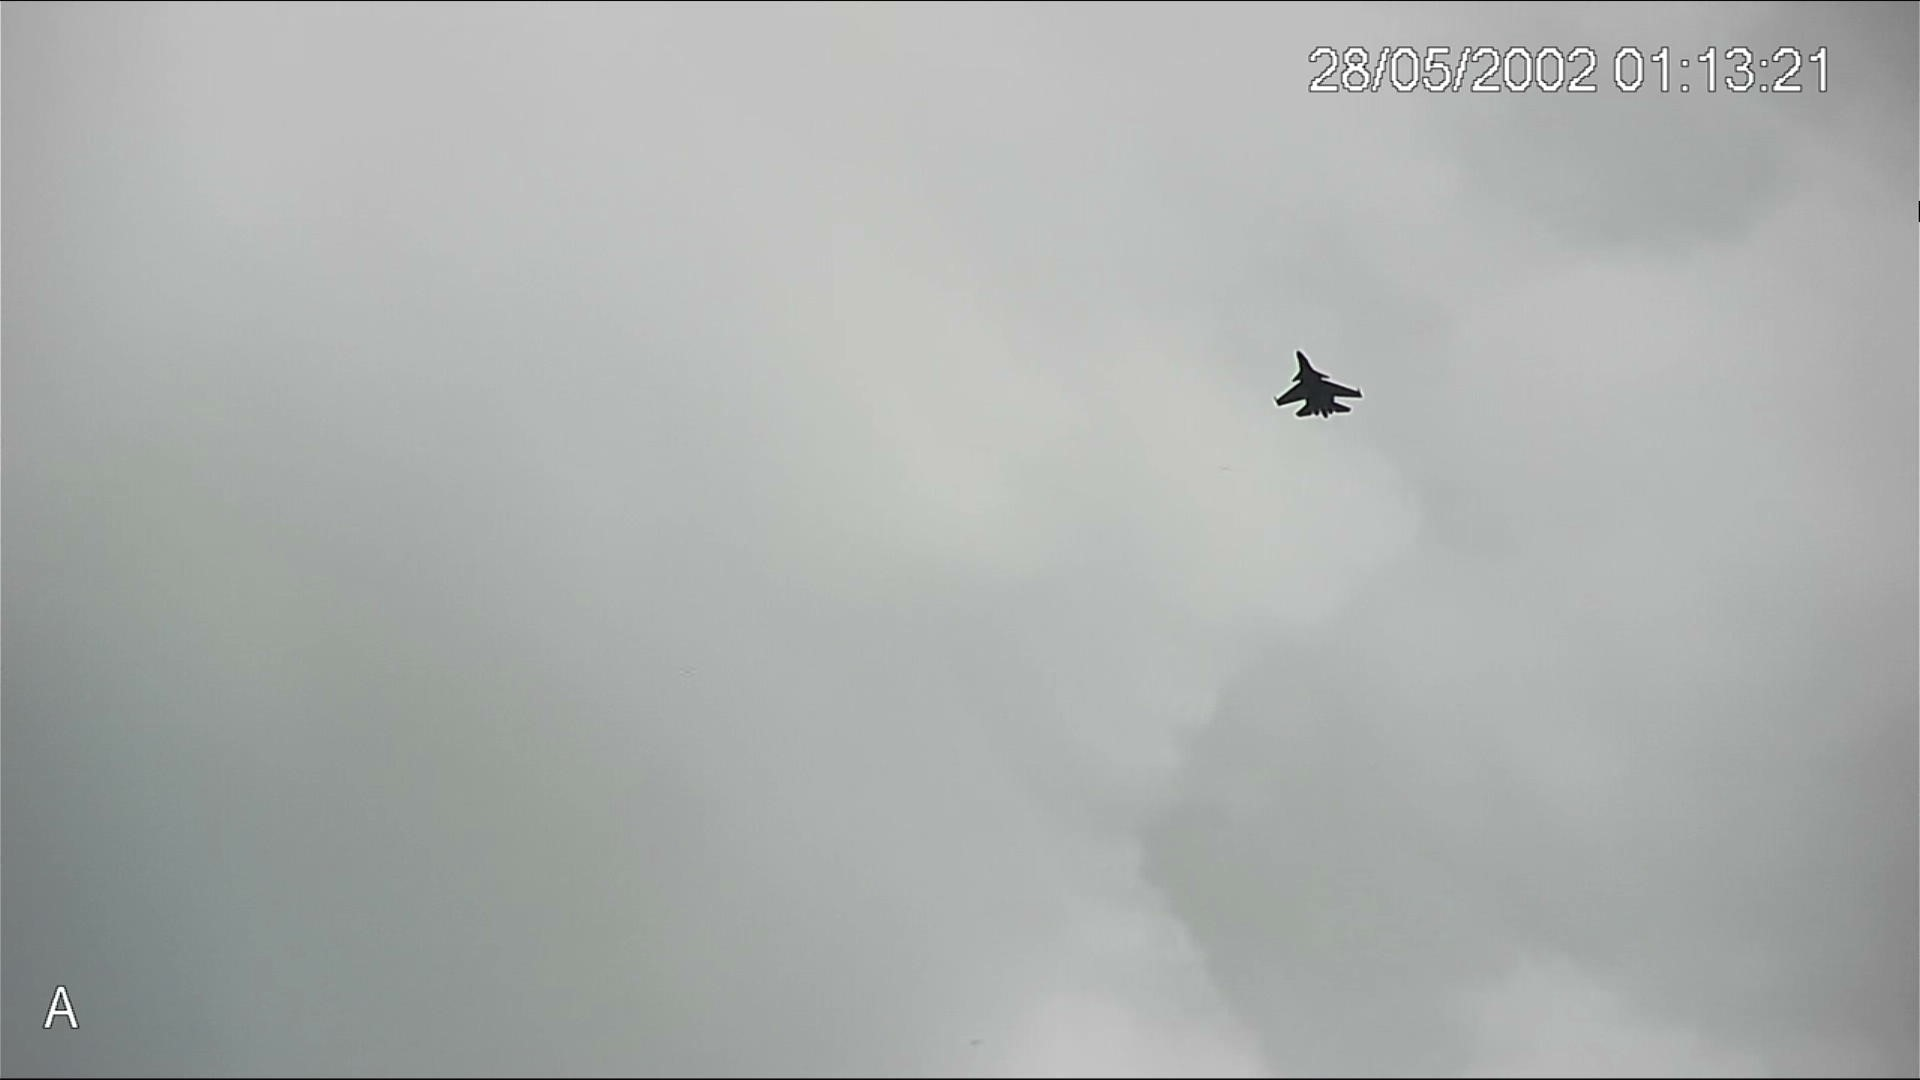SU_30: (1276, 349, 1367, 426)
